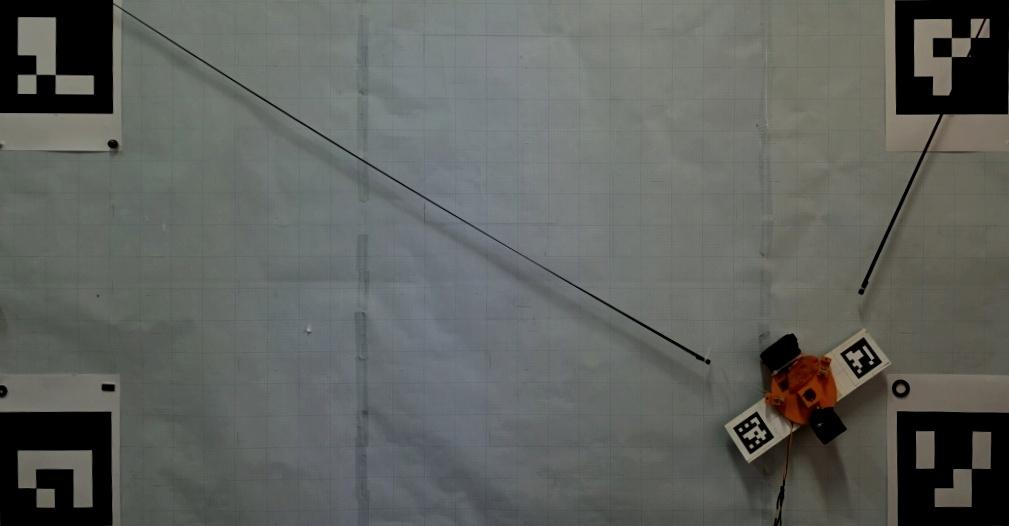robot: (759, 333, 847, 447)
